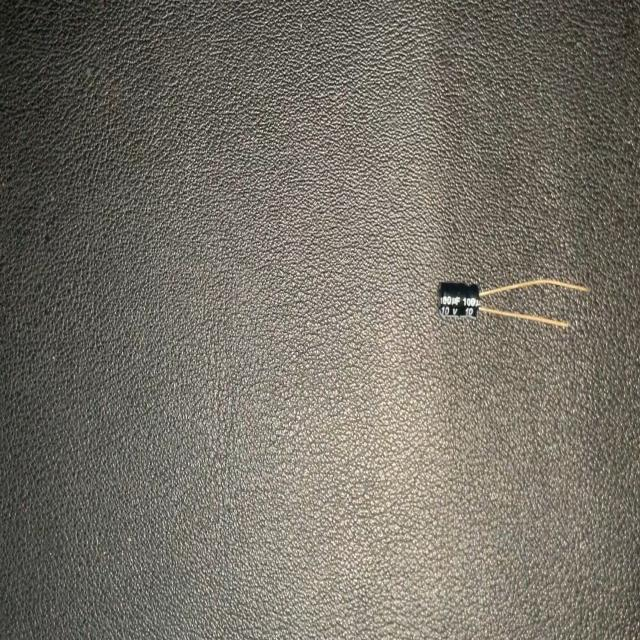capacitor: (432, 270, 593, 335)
